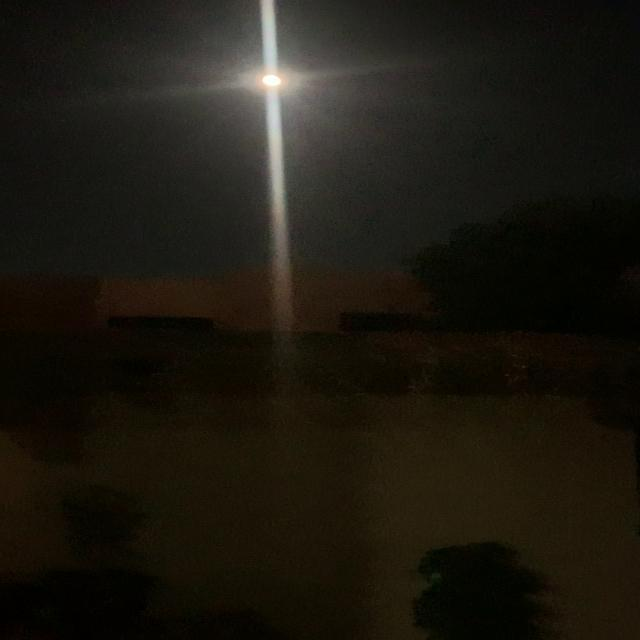moon: (235, 58, 297, 92)
